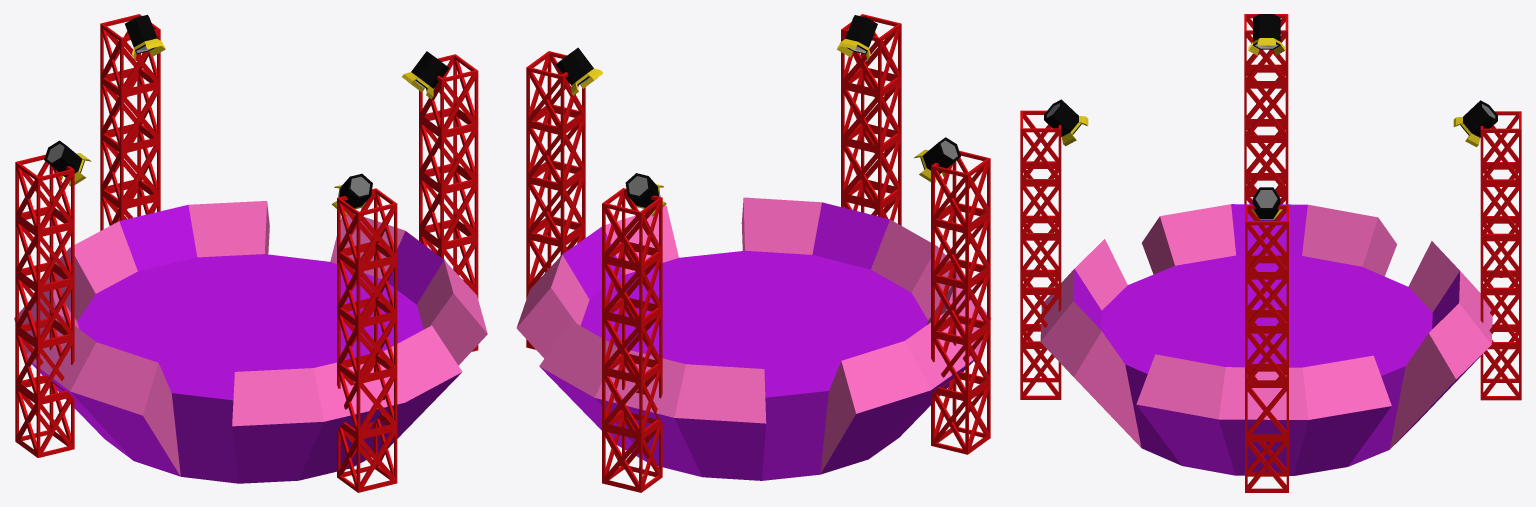
Rendered from Final_Stage_Model.fbx.
The picture shows the model from 3 angles, left to right: view 1: azimuth 30°, elevation 25°; view 2: azimuth 150°, elevation 25°; view 3: azimuth 270°, elevation 25°; orthographic projection. The views are drawn at different scales.
Visible parts, largest first — view 1: Arena_Model; view 2: Arena_Model; view 3: Arena_Model.
Boxes of the visible parts, <box> form: Arena_Model: <box>14,14,487,492</box>; Arena_Model: <box>516,14,991,492</box>; Arena_Model: <box>1020,14,1521,492</box>.
Bounding box in the file's own units: 1928 × 1344 × 1962.
